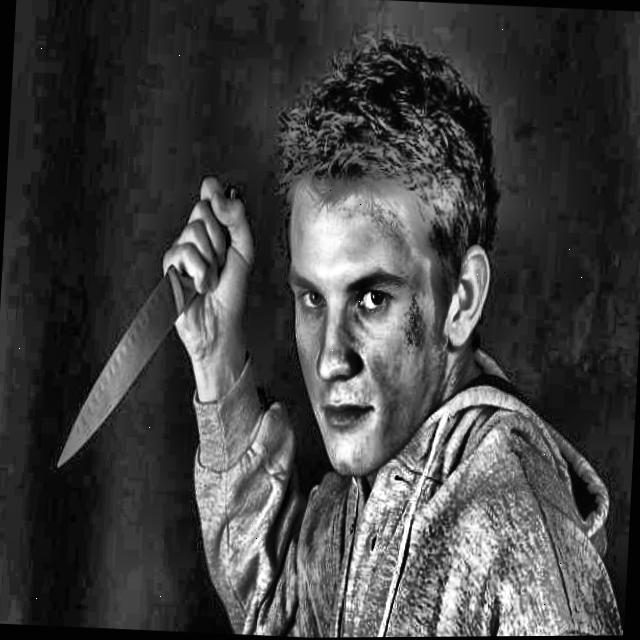pisau: (39, 156, 260, 484)
